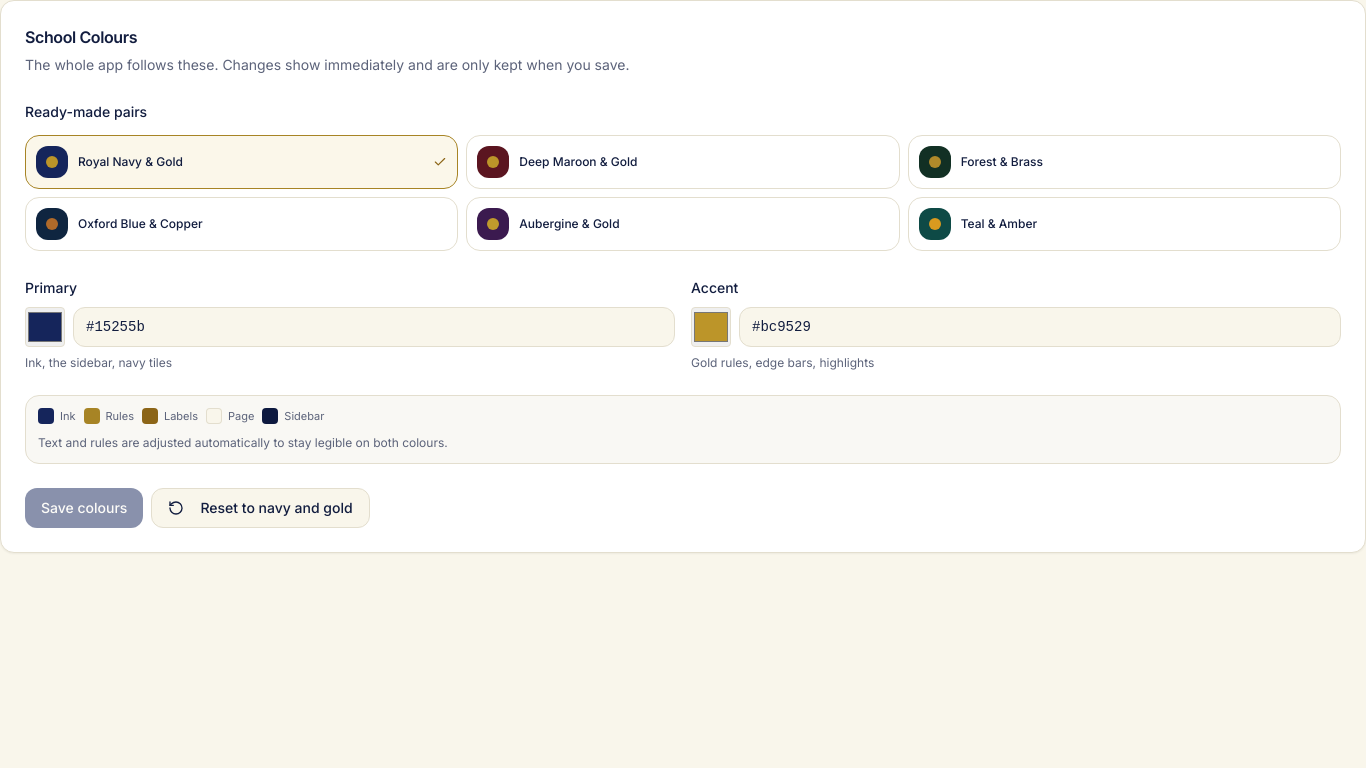
Test case: BrandColorsCard › refuses a half-typed colour rather than saving a fallback
Replace the text in the field labelled "Primary" with "#12": [374, 327] box [73, 307, 675, 347]
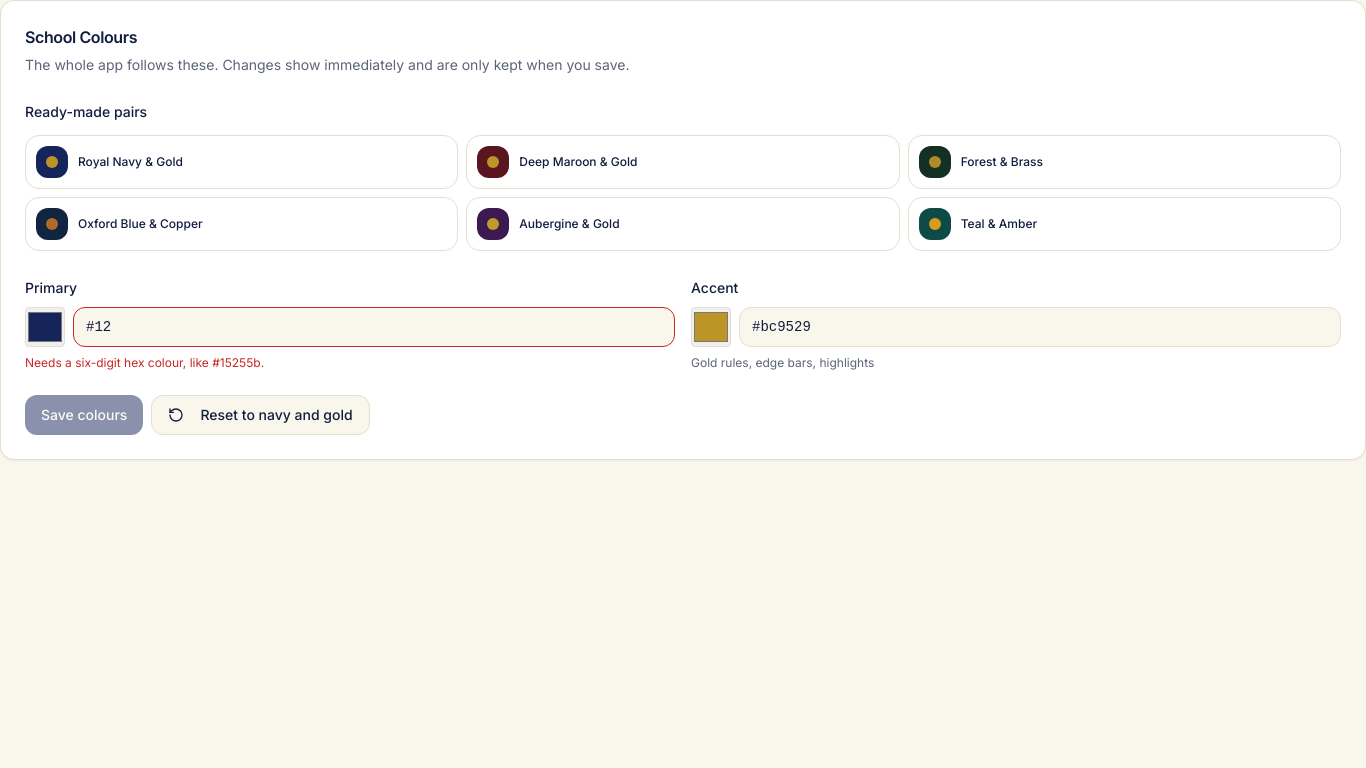
Expected: the button "Save colours" is disabled, [25, 395, 143, 435]
Expected: the text "Needs a six-digit hex colour, like #15255b." is shown, [25, 355, 264, 370]
